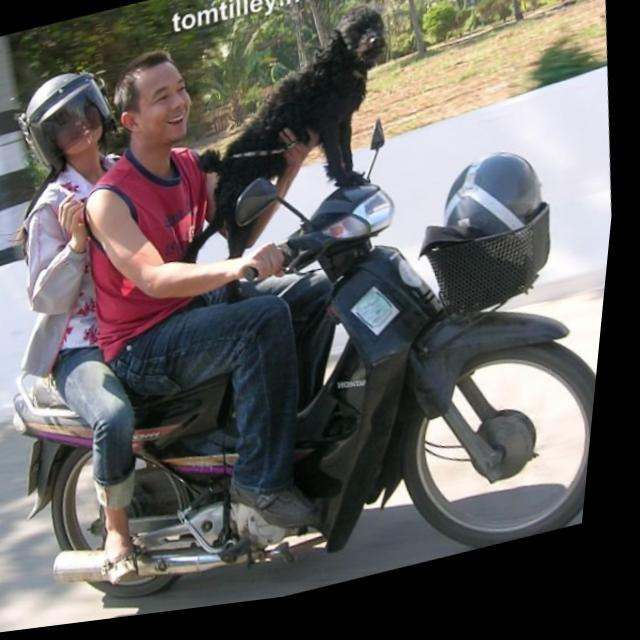Helmet: (3, 66, 108, 178)
Nonhelmet: (105, 41, 195, 158)
